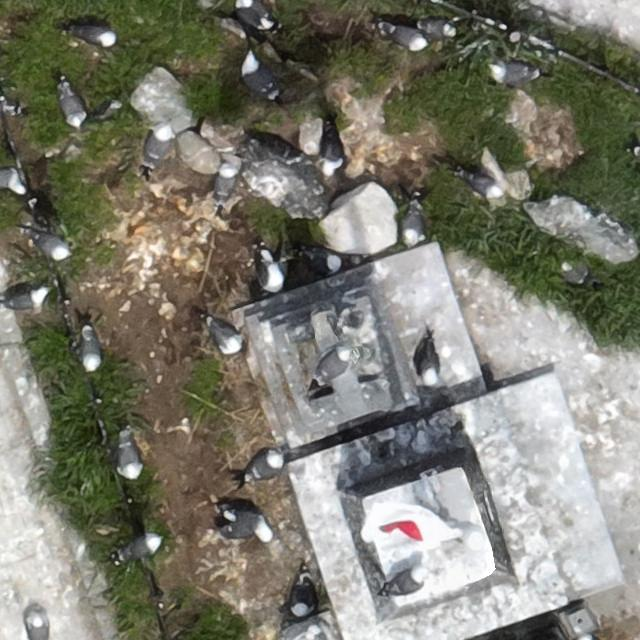umineko: (314, 346, 352, 391), (240, 54, 277, 100), (415, 332, 444, 390), (225, 511, 272, 546), (145, 122, 172, 176), (383, 565, 426, 595), (121, 534, 158, 558), (212, 322, 242, 351), (120, 438, 142, 476), (388, 26, 426, 48), (61, 89, 84, 125), (81, 330, 101, 369), (322, 132, 342, 171), (36, 235, 69, 258), (495, 62, 536, 80), (466, 176, 499, 198), (262, 257, 284, 290), (249, 452, 278, 477), (76, 26, 114, 44), (5, 292, 43, 310), (238, 2, 268, 24), (218, 164, 236, 198), (405, 208, 422, 242), (292, 586, 312, 614), (420, 20, 453, 36), (314, 251, 340, 271), (563, 264, 587, 284), (3, 171, 24, 192), (28, 617, 46, 640), (0, 98, 17, 113)
